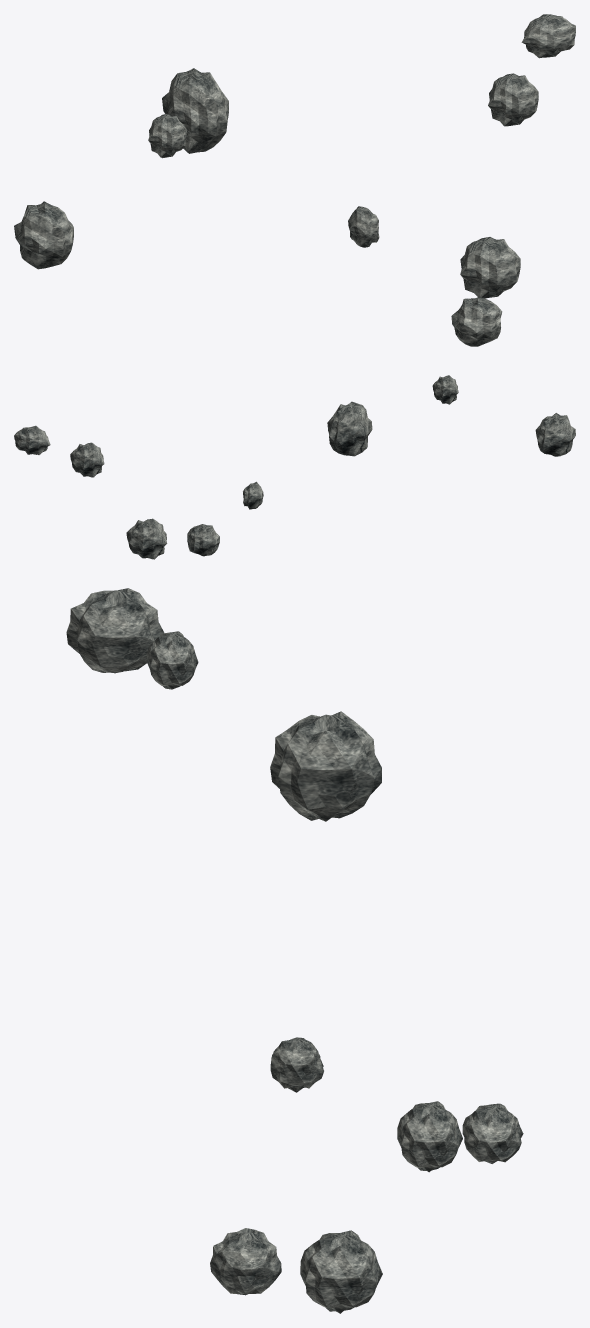
The model's file is cluster_04.glb.
3 views of the same model, one above another, from view 1: azimuth 30°, elevation 25°; view 2: azimuth 150°, elevation 25°; view 3: azimuth 270°, elevation 25° (orthographic). The views are drawn at different scales.
Parts seen in each view (by area): view 1: cluster; view 2: cluster; view 3: cluster.
Part boxes in pixels (x1,y1,x2,y2): cluster: (14, 14, 575, 346); cluster: (14, 375, 575, 559); cluster: (66, 588, 523, 1313).
Bounding box in the file's own units: 4.57 × 2.07 × 1.96.
1 material, 1 textured.
